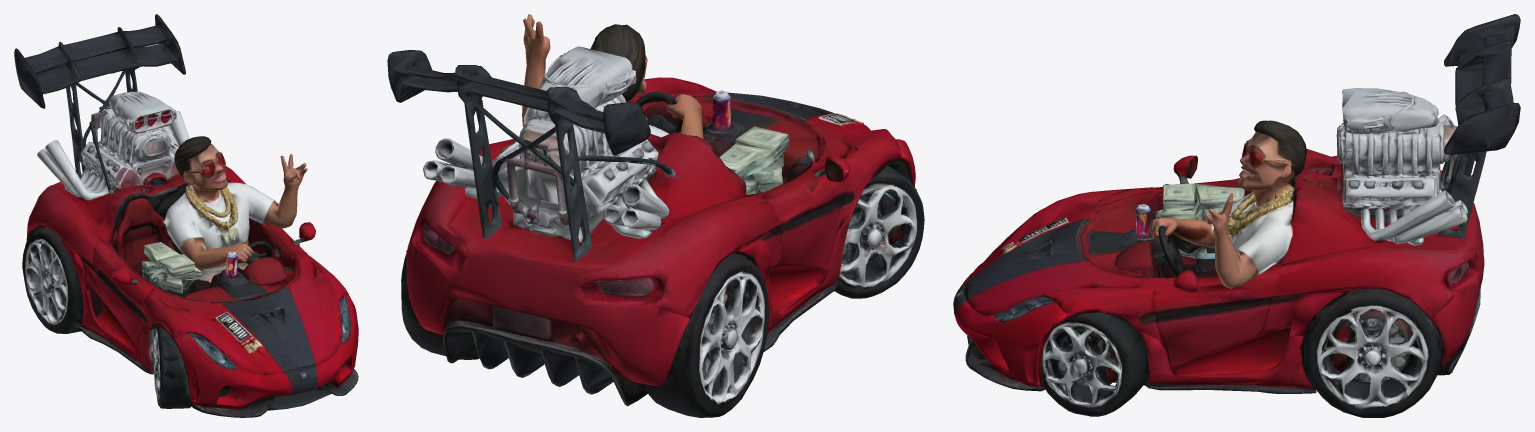
File: tjr.glb
3 renders of one model, left to right at view 1: azimuth 30°, elevation 25°; view 2: azimuth 150°, elevation 25°; view 3: azimuth 270°, elevation 25°, orthographic. The views are drawn at different scales.
Visible parts, largest first — view 1: tripo_node_59cb0b5d-b7d5-46eb-9751-720a9d265356; view 2: tripo_node_59cb0b5d-b7d5-46eb-9751-720a9d265356; view 3: tripo_node_59cb0b5d-b7d5-46eb-9751-720a9d265356.
Part boxes in pixels (left/top/right/bottom): tripo_node_59cb0b5d-b7d5-46eb-9751-720a9d265356: left=14, top=14, right=358, bottom=417; tripo_node_59cb0b5d-b7d5-46eb-9751-720a9d265356: left=387, top=14, right=924, bottom=417; tripo_node_59cb0b5d-b7d5-46eb-9751-720a9d265356: left=953, top=14, right=1520, bottom=417.
Size of the model in its own units: 0.5189 by 0.5786 by 0.979.
Materials: 1 (1 with a texture image).
